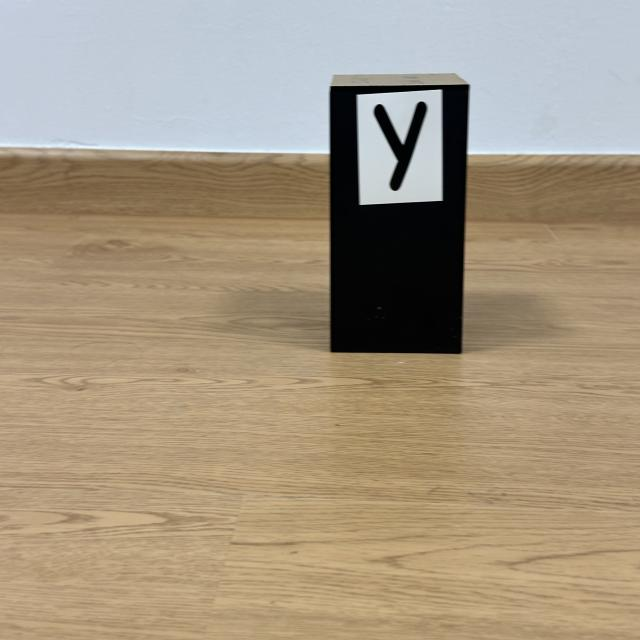Y: (374, 102, 428, 190)
